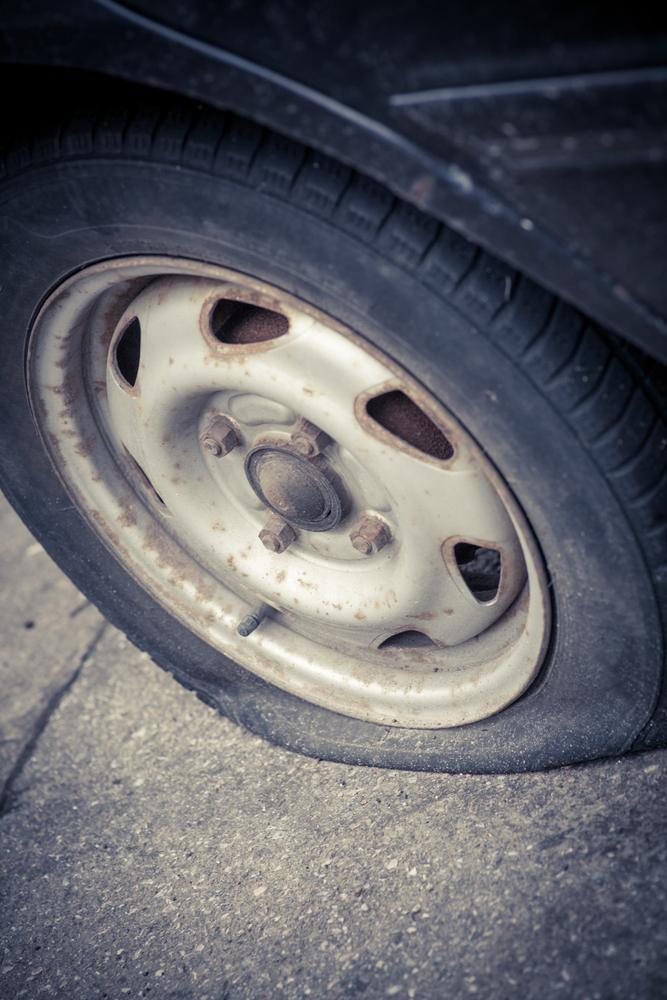tire flat: (0, 68, 667, 776)
